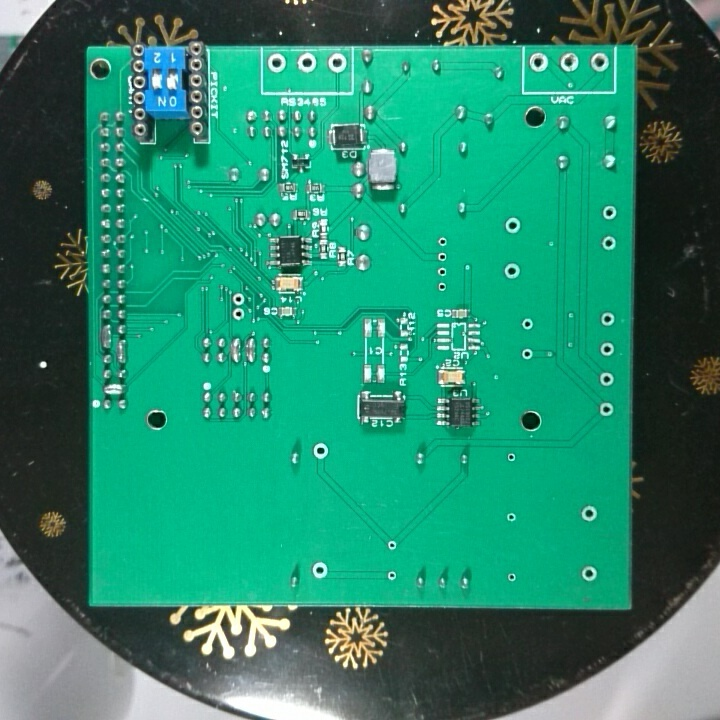F: (294, 50, 319, 75), (557, 48, 580, 75), (588, 49, 611, 75), (265, 52, 290, 75), (528, 50, 550, 76), (326, 51, 350, 74), (579, 500, 599, 525), (597, 309, 620, 330), (309, 559, 329, 583), (599, 201, 620, 223), (502, 215, 523, 236), (599, 232, 619, 254), (578, 563, 598, 585), (597, 399, 617, 420), (597, 368, 616, 390), (502, 261, 521, 283), (312, 440, 331, 462), (501, 507, 520, 528), (598, 339, 617, 359), (519, 345, 536, 364), (520, 315, 536, 333), (503, 568, 519, 585), (504, 449, 520, 466), (434, 279, 451, 295), (230, 291, 247, 307), (435, 234, 451, 250), (434, 248, 450, 264), (385, 537, 400, 553), (384, 568, 400, 583), (435, 265, 451, 279), (230, 306, 245, 319)
P: (98, 322, 114, 352), (242, 334, 257, 364), (115, 338, 130, 367), (101, 382, 128, 398), (228, 335, 242, 365)
